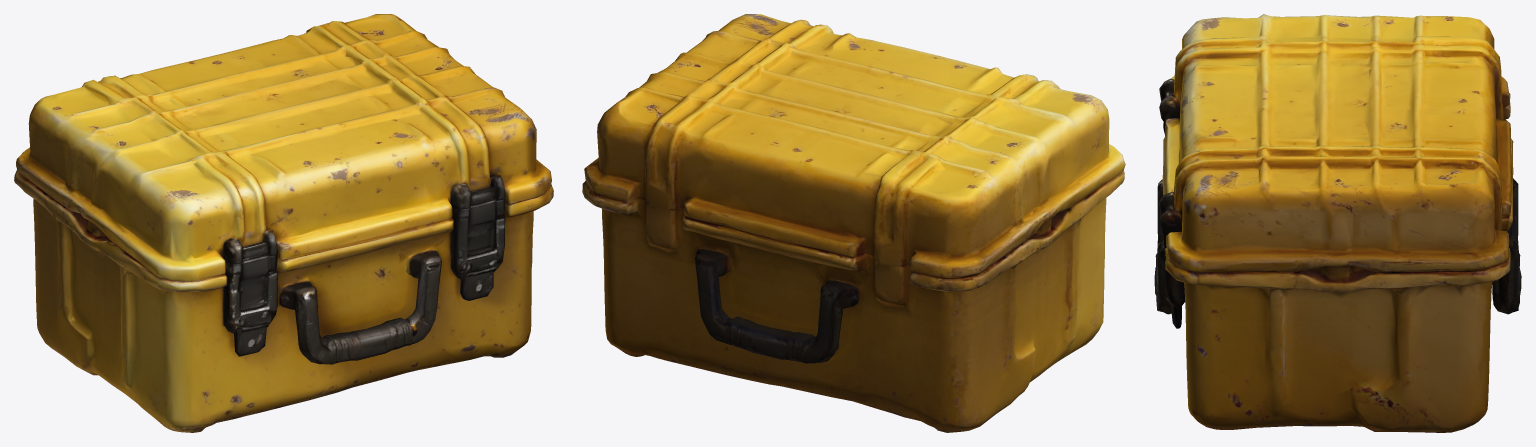
Rendered from toolbox_case.fbx.
The picture shows the model from 3 angles, left to right: view 1: azimuth 30°, elevation 25°; view 2: azimuth 150°, elevation 25°; view 3: azimuth 270°, elevation 25°; orthographic projection.
Visible parts, largest first — view 1: toolbox_case; view 2: toolbox_case; view 3: toolbox_case.
Part boxes in pixels (<box>): toolbox_case: <box>14,14,553,432</box>; toolbox_case: <box>582,14,1125,432</box>; toolbox_case: <box>1154,14,1521,432</box>.
Bounding box in the file's own units: 0.5499 × 0.3324 × 0.4365.
1 material, 1 textured.
